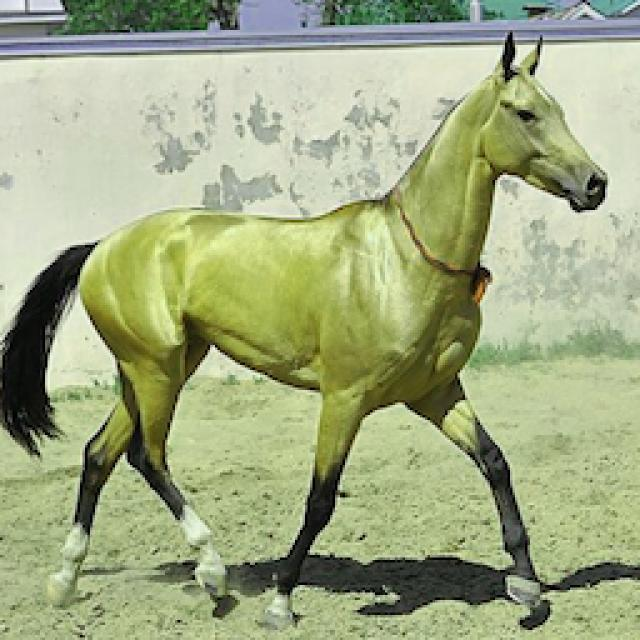Horse: (0, 27, 612, 632)
